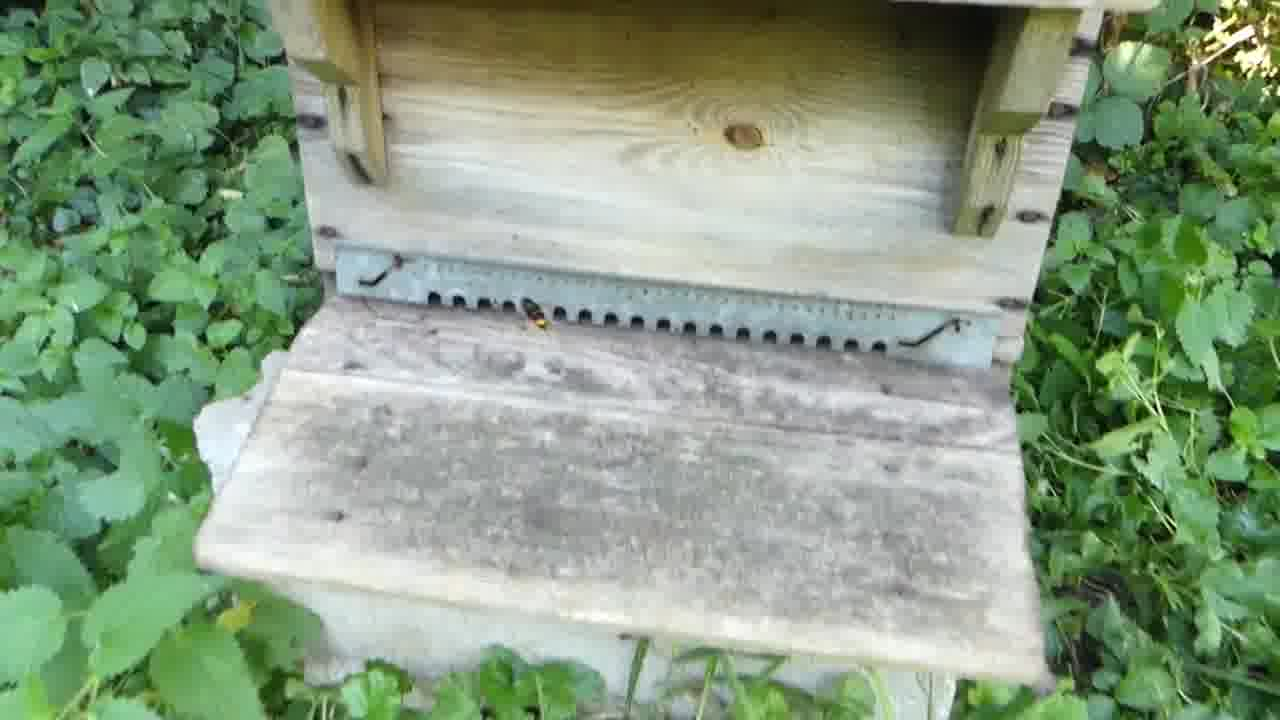hornet: (517, 293, 551, 332)
